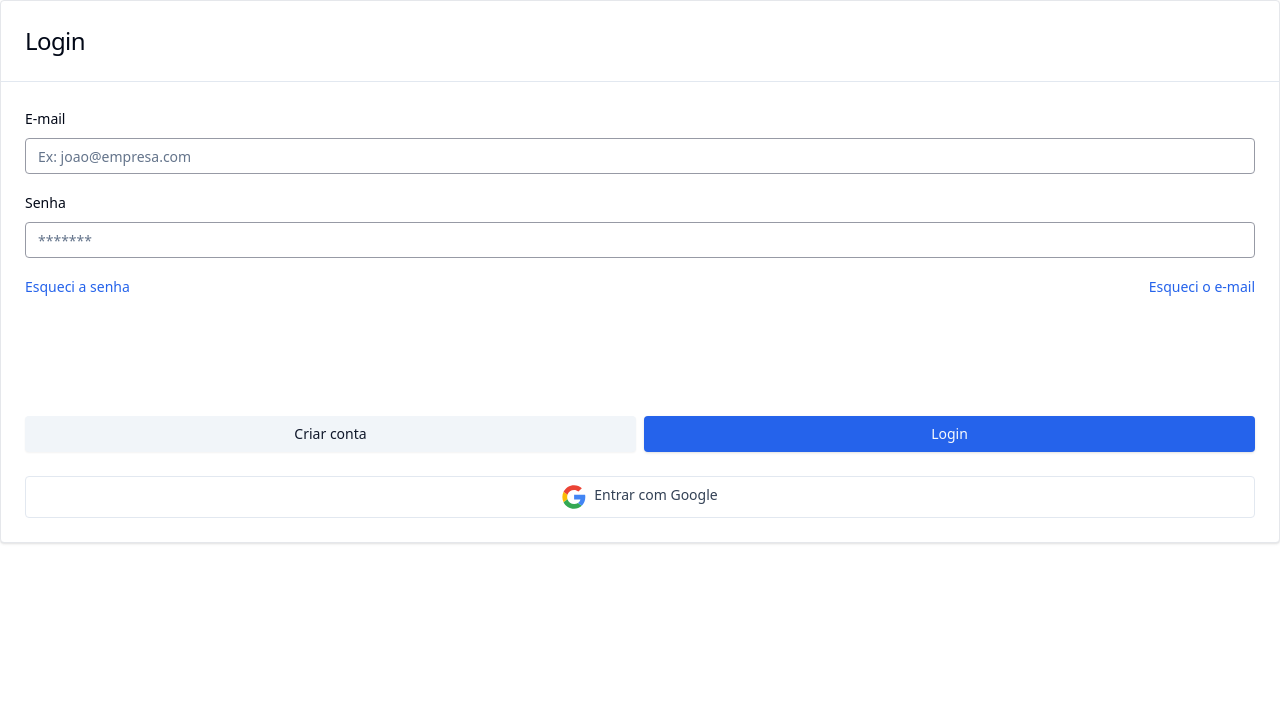
Login › render validation error message when data form is invalid
Click the button "Login" at (950, 434), box [644,416,1255,452]
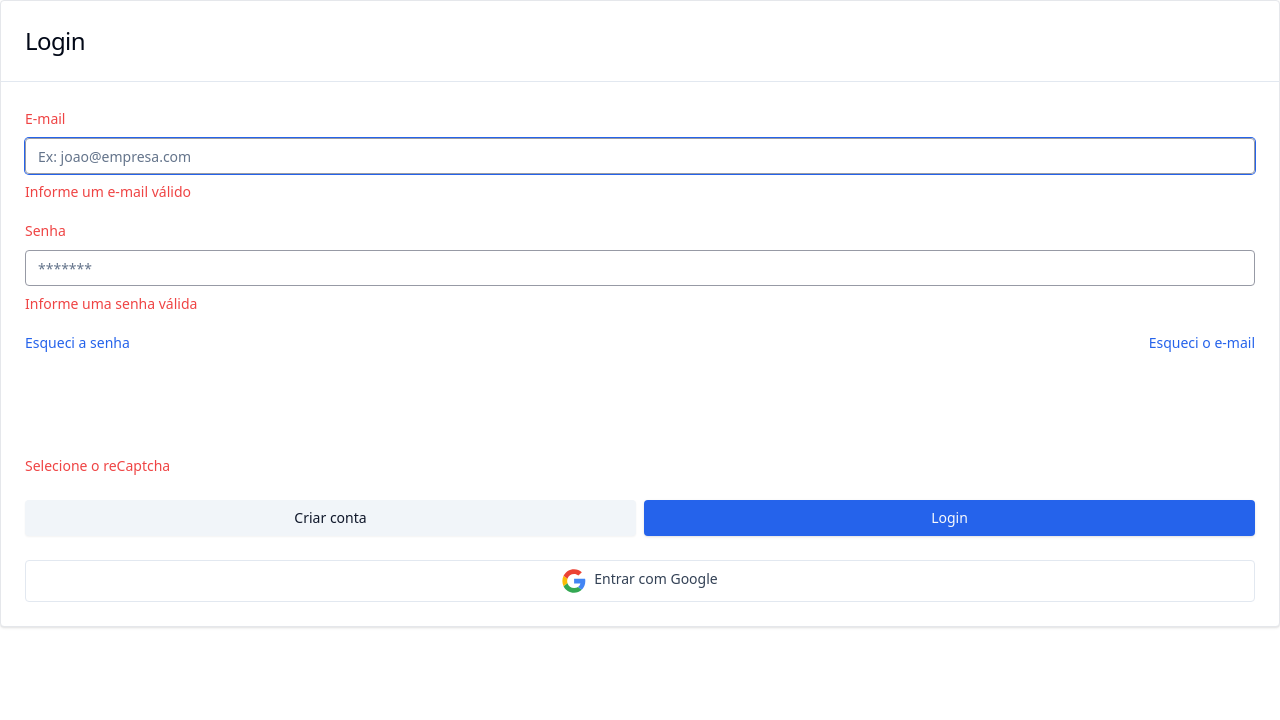
Now the text "Informe um e-mail válido" is shown, box [25,182,191,201]
Now the text "Informe uma senha válida" is shown, box [25,294,197,313]
Now the text "Selecione o reCaptcha" is shown, box [25,456,170,475]
